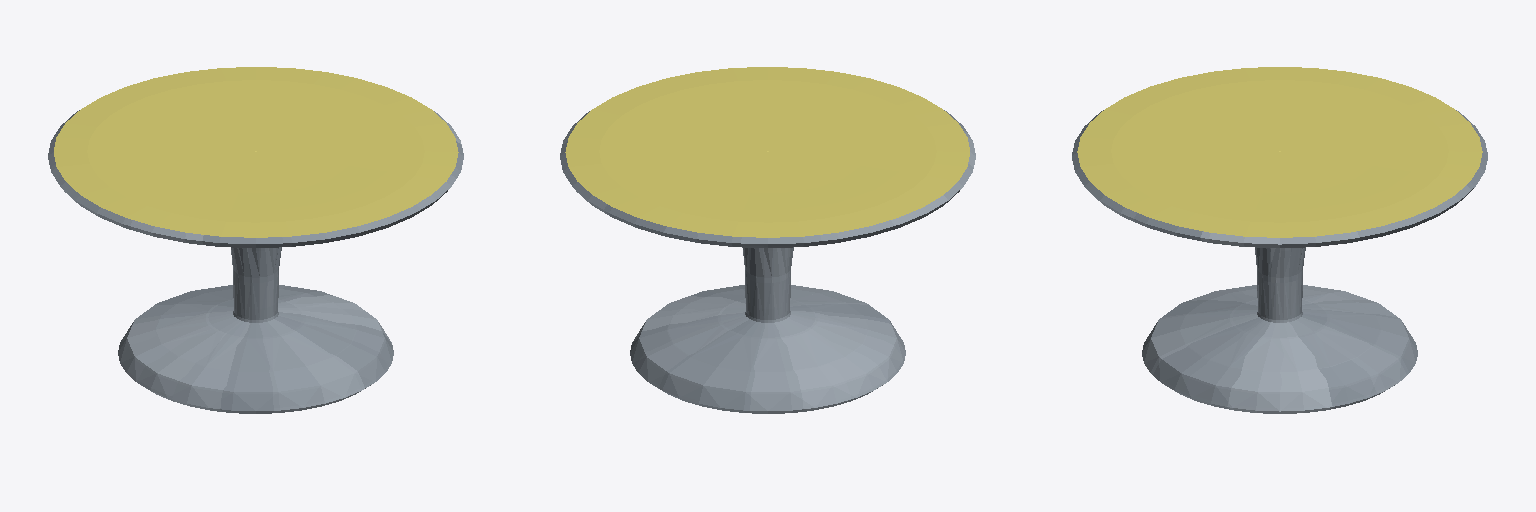
The picture shows the model from 3 angles: view 1: azimuth 30°, elevation 25°; view 2: azimuth 150°, elevation 25°; view 3: azimuth 270°, elevation 25°; orthographic projection.
Parts seen in each view (by area): view 1: mesa_basepl1; view 2: mesa_basepl1; view 3: mesa_basepl1.
Part boxes in pixels (x1,y1,x2,y2): mesa_basepl1: (48, 67, 463, 413); mesa_basepl1: (560, 67, 975, 413); mesa_basepl1: (1072, 67, 1487, 413).
Bounding box in the file's own units: 1.34 × 0.7453 × 1.34.
3 materials, 2 textured.